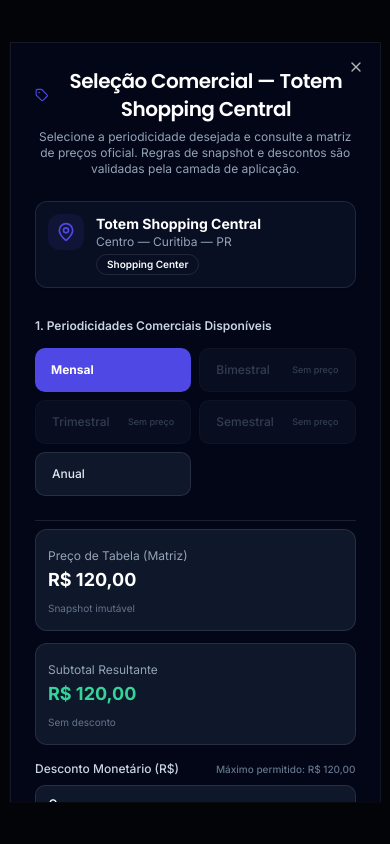
Test: GATE 1C — Camada Comercial / UI / Seleção Comercial › T3 — Preço real: UI consome o preço resolvido pela matriz sem efetuar multiplicação/cálculo próprio
Expected: the text "R$ 120,00" below "Preço de Tabela (Matriz)" is shown, [48,569,136,590]
Troca para ANUAL
Click the button "Anual": (113, 474) [35,452,191,496]
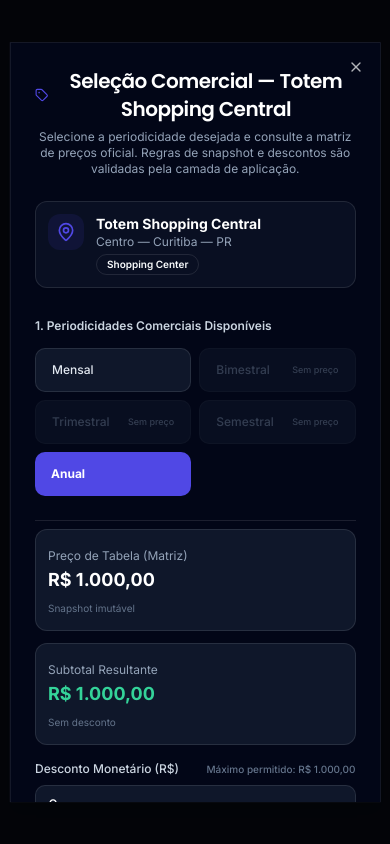
Expected: the text "R$ 1.000,00" below "Preço de Tabela (Matriz)" is shown, [48,569,155,590]
